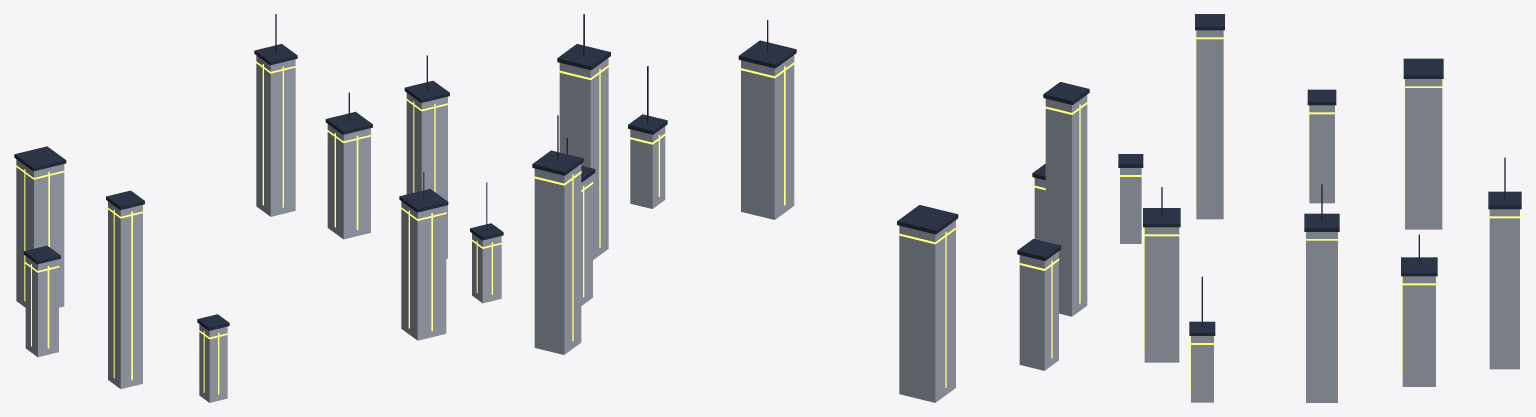
The picture shows the model from 3 angles, left to right: view 1: azimuth 30°, elevation 25°; view 2: azimuth 150°, elevation 25°; view 3: azimuth 270°, elevation 25°; orthographic projection. The views are drawn at different scales.
Parts seen in each view (by area): view 1: nexo_spires_taller.lod0; view 2: nexo_spires_taller.lod0; view 3: nexo_spires_taller.lod0.
Boxes of the visible parts, box(x1,y1,x2,y2) form: nexo_spires_taller.lod0: box(14, 14, 503, 402); nexo_spires_taller.lod0: box(532, 14, 1089, 402); nexo_spires_taller.lod0: box(1118, 14, 1521, 402).
Bounding box in the file's own units: 26.37 × 12.3 × 21.23.
